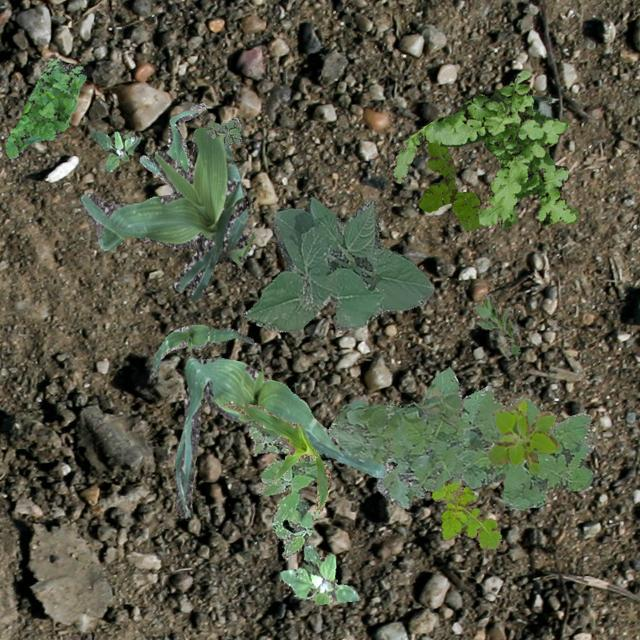crop: (174, 356, 392, 518), (80, 126, 250, 300), (242, 196, 433, 330), (222, 401, 330, 518), (138, 102, 204, 184), (152, 324, 252, 376)
weed: (328, 366, 594, 510), (388, 70, 578, 228), (248, 426, 330, 558), (5, 56, 86, 158), (416, 140, 482, 230), (488, 398, 558, 472), (278, 544, 359, 604), (430, 479, 500, 548), (472, 292, 518, 354), (90, 130, 140, 172), (204, 116, 240, 144)
